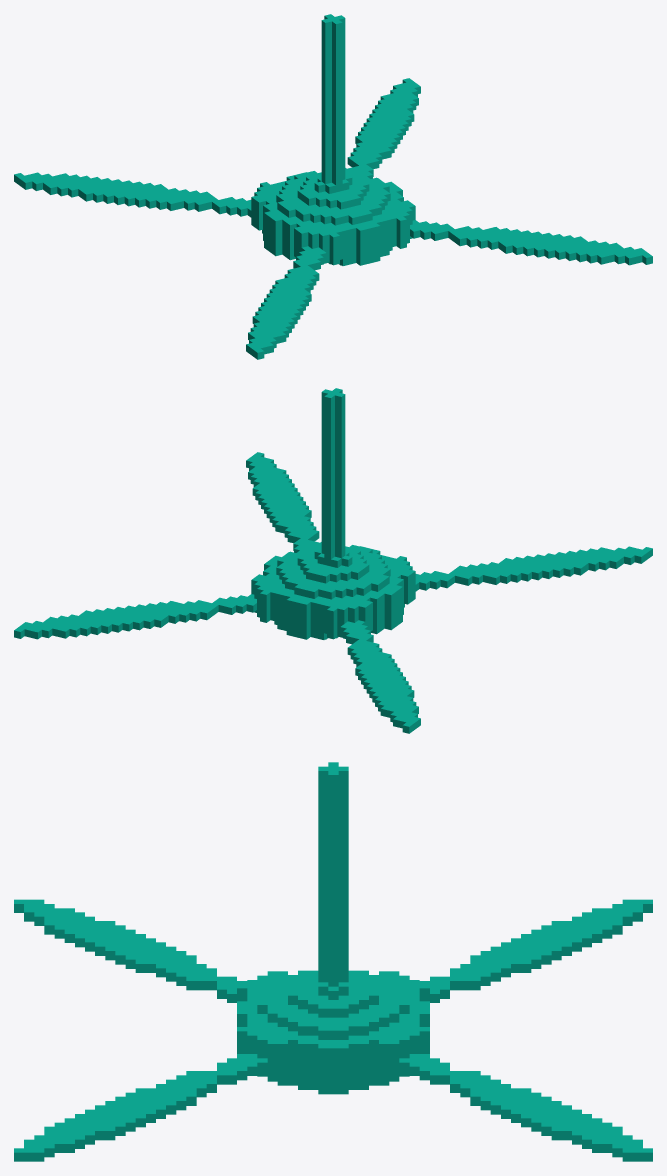
The model's file is Fan.fbx.
The picture shows the model from 3 angles, top to bottom: view 1: azimuth 30°, elevation 25°; view 2: azimuth 150°, elevation 25°; view 3: azimuth 270°, elevation 25°; orthographic projection. The views are drawn at different scales.
Parts seen in each view (by area): view 1: Fan; view 2: Fan; view 3: Fan.
Part boxes in pixels (<box>): Fan: <box>14,14,652,359</box>; Fan: <box>14,388,652,733</box>; Fan: <box>14,762,652,1161</box>.
Size of the model in its own units: 76.8 by 42.96 by 82.01.
